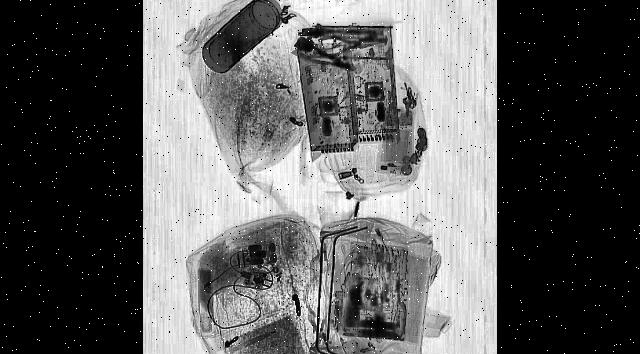Pliers: (298, 45, 348, 75), (318, 32, 359, 56)
